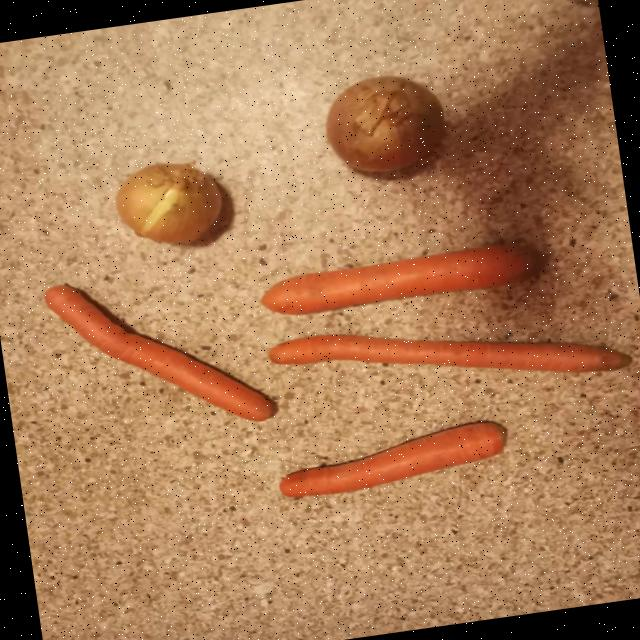carrot: (42, 282, 274, 419), (259, 241, 544, 313), (277, 418, 507, 496), (266, 331, 628, 370)
